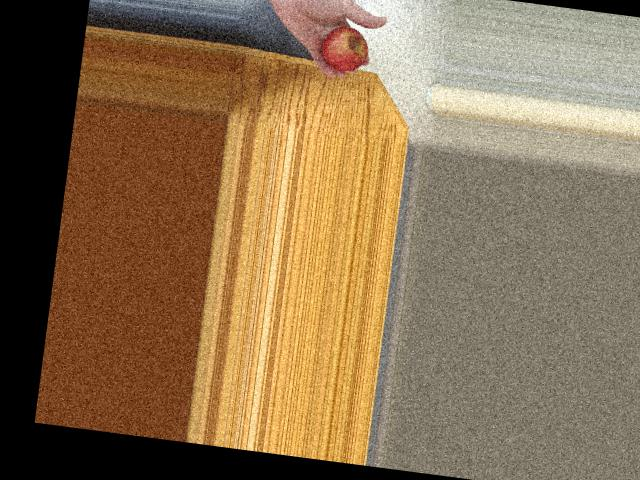apple: (314, 19, 372, 74)
